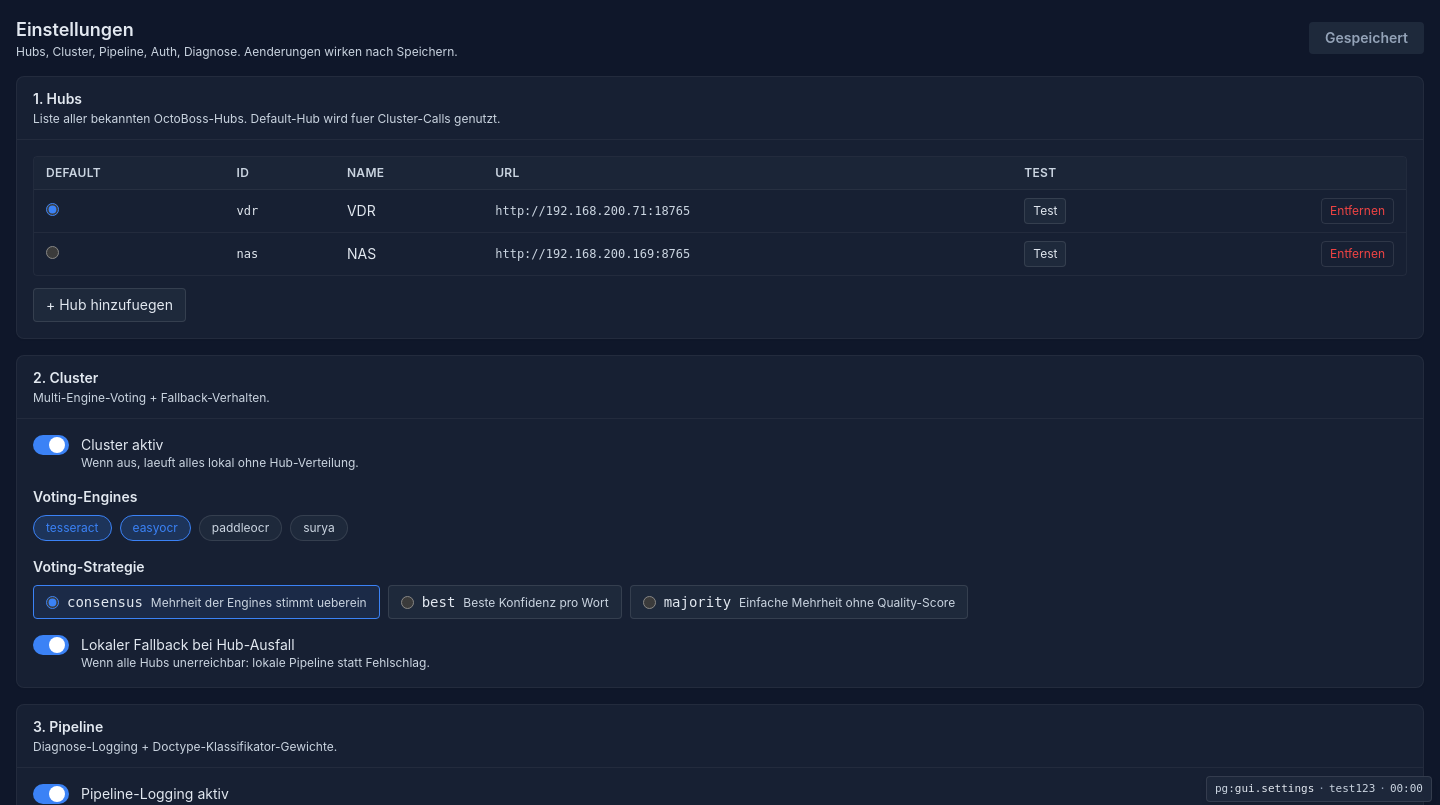
SettingsTab › Save-Button ist initial disabled, aktiviert sich bei Aenderung (Akzeptanz UX-Dirty-State)
expect the button with test id "save-button" is disabled: met, box [1309,22,1424,54]
expect the button with test id "save-button" reads "Gespeichert": met, box [1309,22,1424,54]
Click the switch with test id "toggle-cluster-enabled": (51, 445) [33,435,69,455]
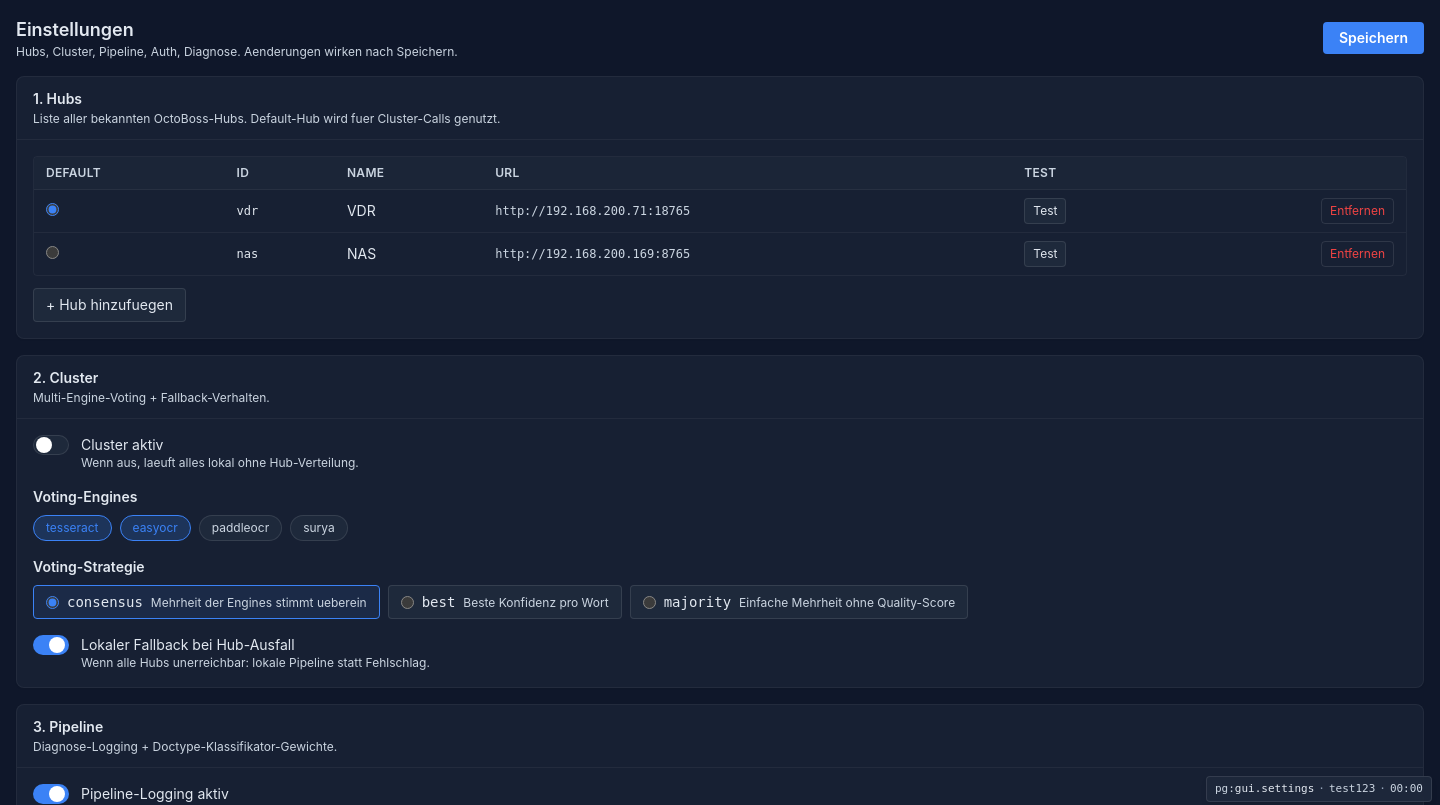
expect the button with test id "save-button" is enabled: met, box [1323,22,1424,54]
expect the button with test id "save-button" reads "Speichern": met, box [1323,22,1424,54]
